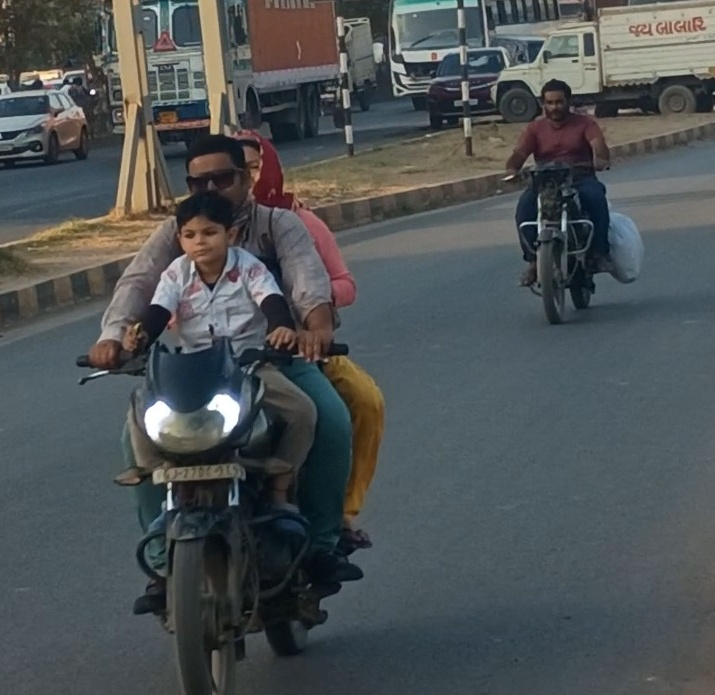BikeWithRider: (63, 104, 399, 692), (485, 69, 652, 336)
NoHelmet: (174, 131, 253, 216), (220, 124, 289, 214), (168, 193, 236, 276), (527, 75, 584, 131)
